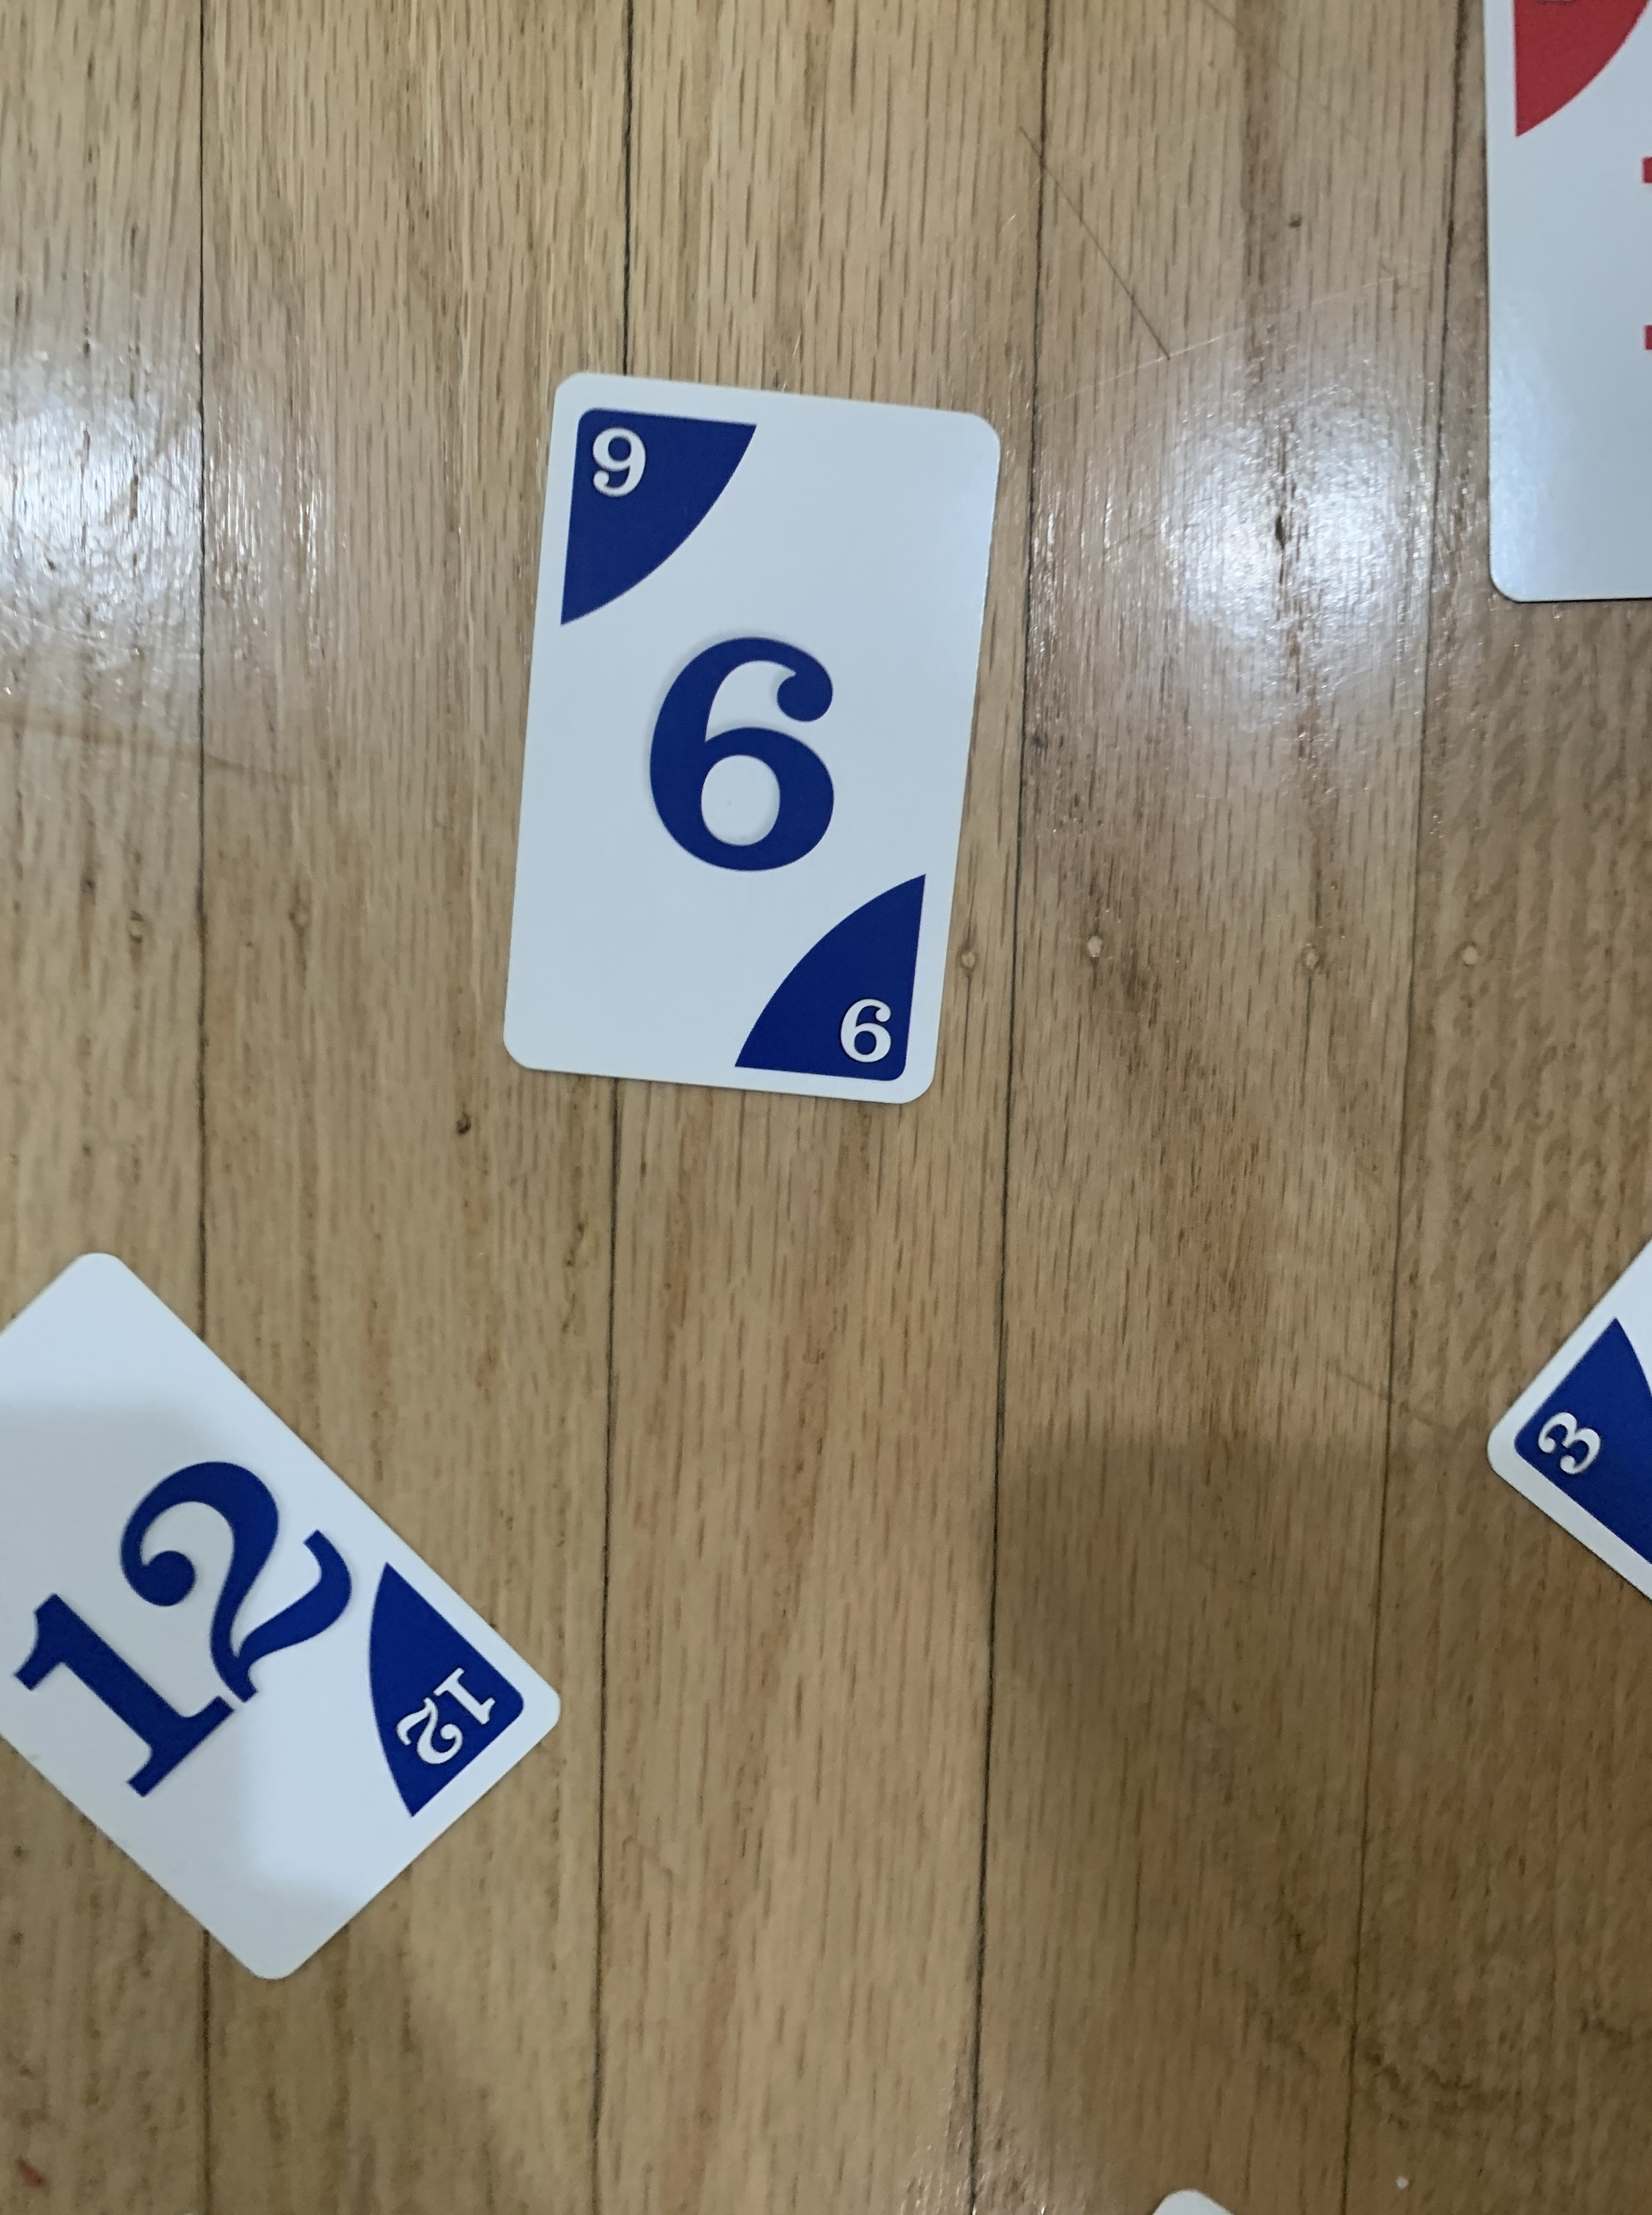six: (493, 359, 1013, 1109)
twelve: (0, 1245, 569, 1986)
